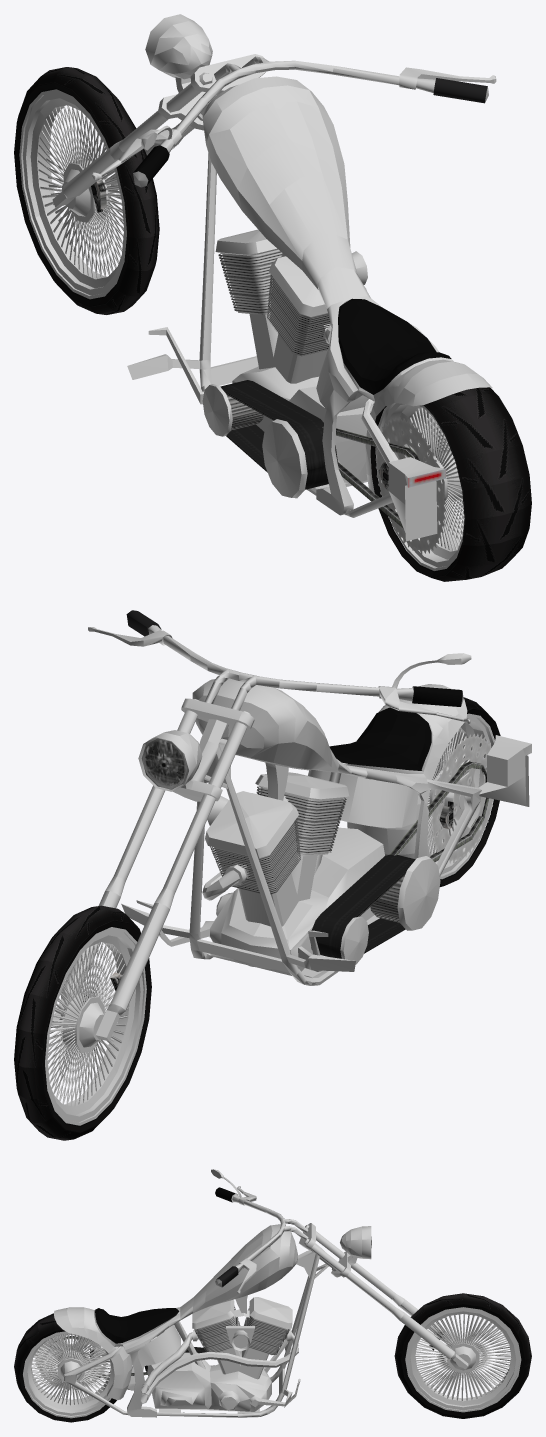
File: MC3_VP_DELEGANCE_03.glb
The picture shows the model from 3 angles, top to bottom: view 1: azimuth 30°, elevation 25°; view 2: azimuth 150°, elevation 25°; view 3: azimuth 270°, elevation 25°; orthographic projection. The views are drawn at different scales.
Parts seen in each view (by area): view 1: body_hlod.mesh, whl_3_rim_0, whl_5_tire_0, handlebars_h.mesh, whl_3_tire_0, whl_5_rim_0, fork_lower_h.mesh, Sprocket.mesh, plate_h.mesh; view 2: body_hlod.mesh, whl_3_rim_0, whl_3_tire_0, fork_lower_h.mesh, handlebars_h.mesh, Sprocket.mesh, whl_5_rim_0, whl_5_tire_0, Exh_H.mesh; view 3: body_hlod.mesh, whl_3_rim_0, whl_5_rim_0, whl_3_tire_0, fork_lower_h.mesh, handlebars_h.mesh, Exh_H.mesh, whl_5_tire_0, Sprocket.mesh.
Boxes of the visible parts, x1,y1,x2,y2 form: body_hlod.mesh: (127, 76, 492, 532); whl_3_rim_0: (19, 89, 126, 299); whl_5_tire_0: (370, 387, 531, 581); handlebars_h.mesh: (92, 14, 496, 187); whl_3_tire_0: (14, 67, 159, 314); whl_5_rim_0: (376, 403, 464, 570); fork_lower_h.mesh: (52, 54, 266, 207); Sprocket.mesh: (375, 416, 445, 553); plate_h.mesh: (405, 481, 437, 541); body_hlod.mesh: (121, 678, 531, 985); whl_3_rim_0: (45, 927, 146, 1125); whl_3_tire_0: (14, 905, 151, 1140); fork_lower_h.mesh: (51, 698, 254, 1041); handlebars_h.mesh: (88, 610, 471, 791); Sprocket.mesh: (430, 733, 493, 863); whl_5_rim_0: (427, 713, 495, 879); whl_5_tire_0: (439, 697, 500, 886); Exh_H.mesh: (202, 864, 246, 900); body_hlod.mesh: (40, 1224, 336, 1417); whl_3_rim_0: (405, 1307, 521, 1412); whl_5_rim_0: (23, 1331, 114, 1418); whl_3_tire_0: (394, 1293, 531, 1418); fork_lower_h.mesh: (299, 1223, 468, 1369); handlebars_h.mesh: (211, 1169, 371, 1293); Exh_H.mesh: (140, 1330, 298, 1403); whl_5_tire_0: (14, 1313, 116, 1422); Sprocket.mesh: (34, 1333, 108, 1390).
Bounding box in the file's own units: 1.34 × 1.2 × 2.77.
Materials: 20 (8 with a texture image).
